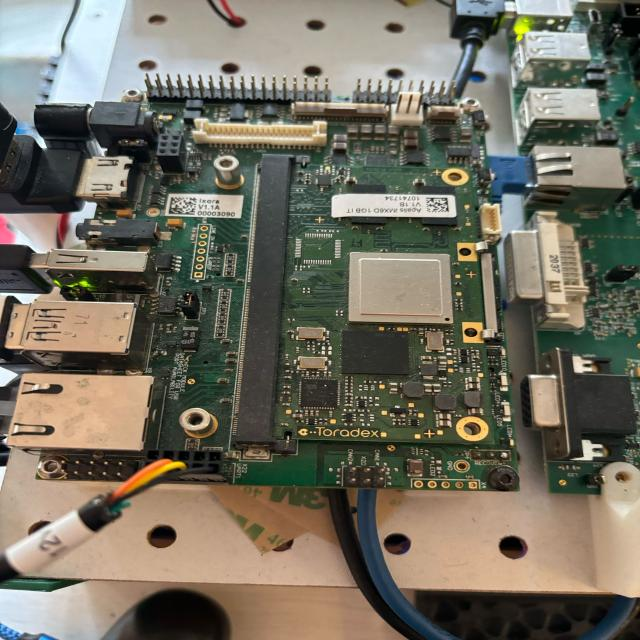som: (264, 157, 518, 458)
